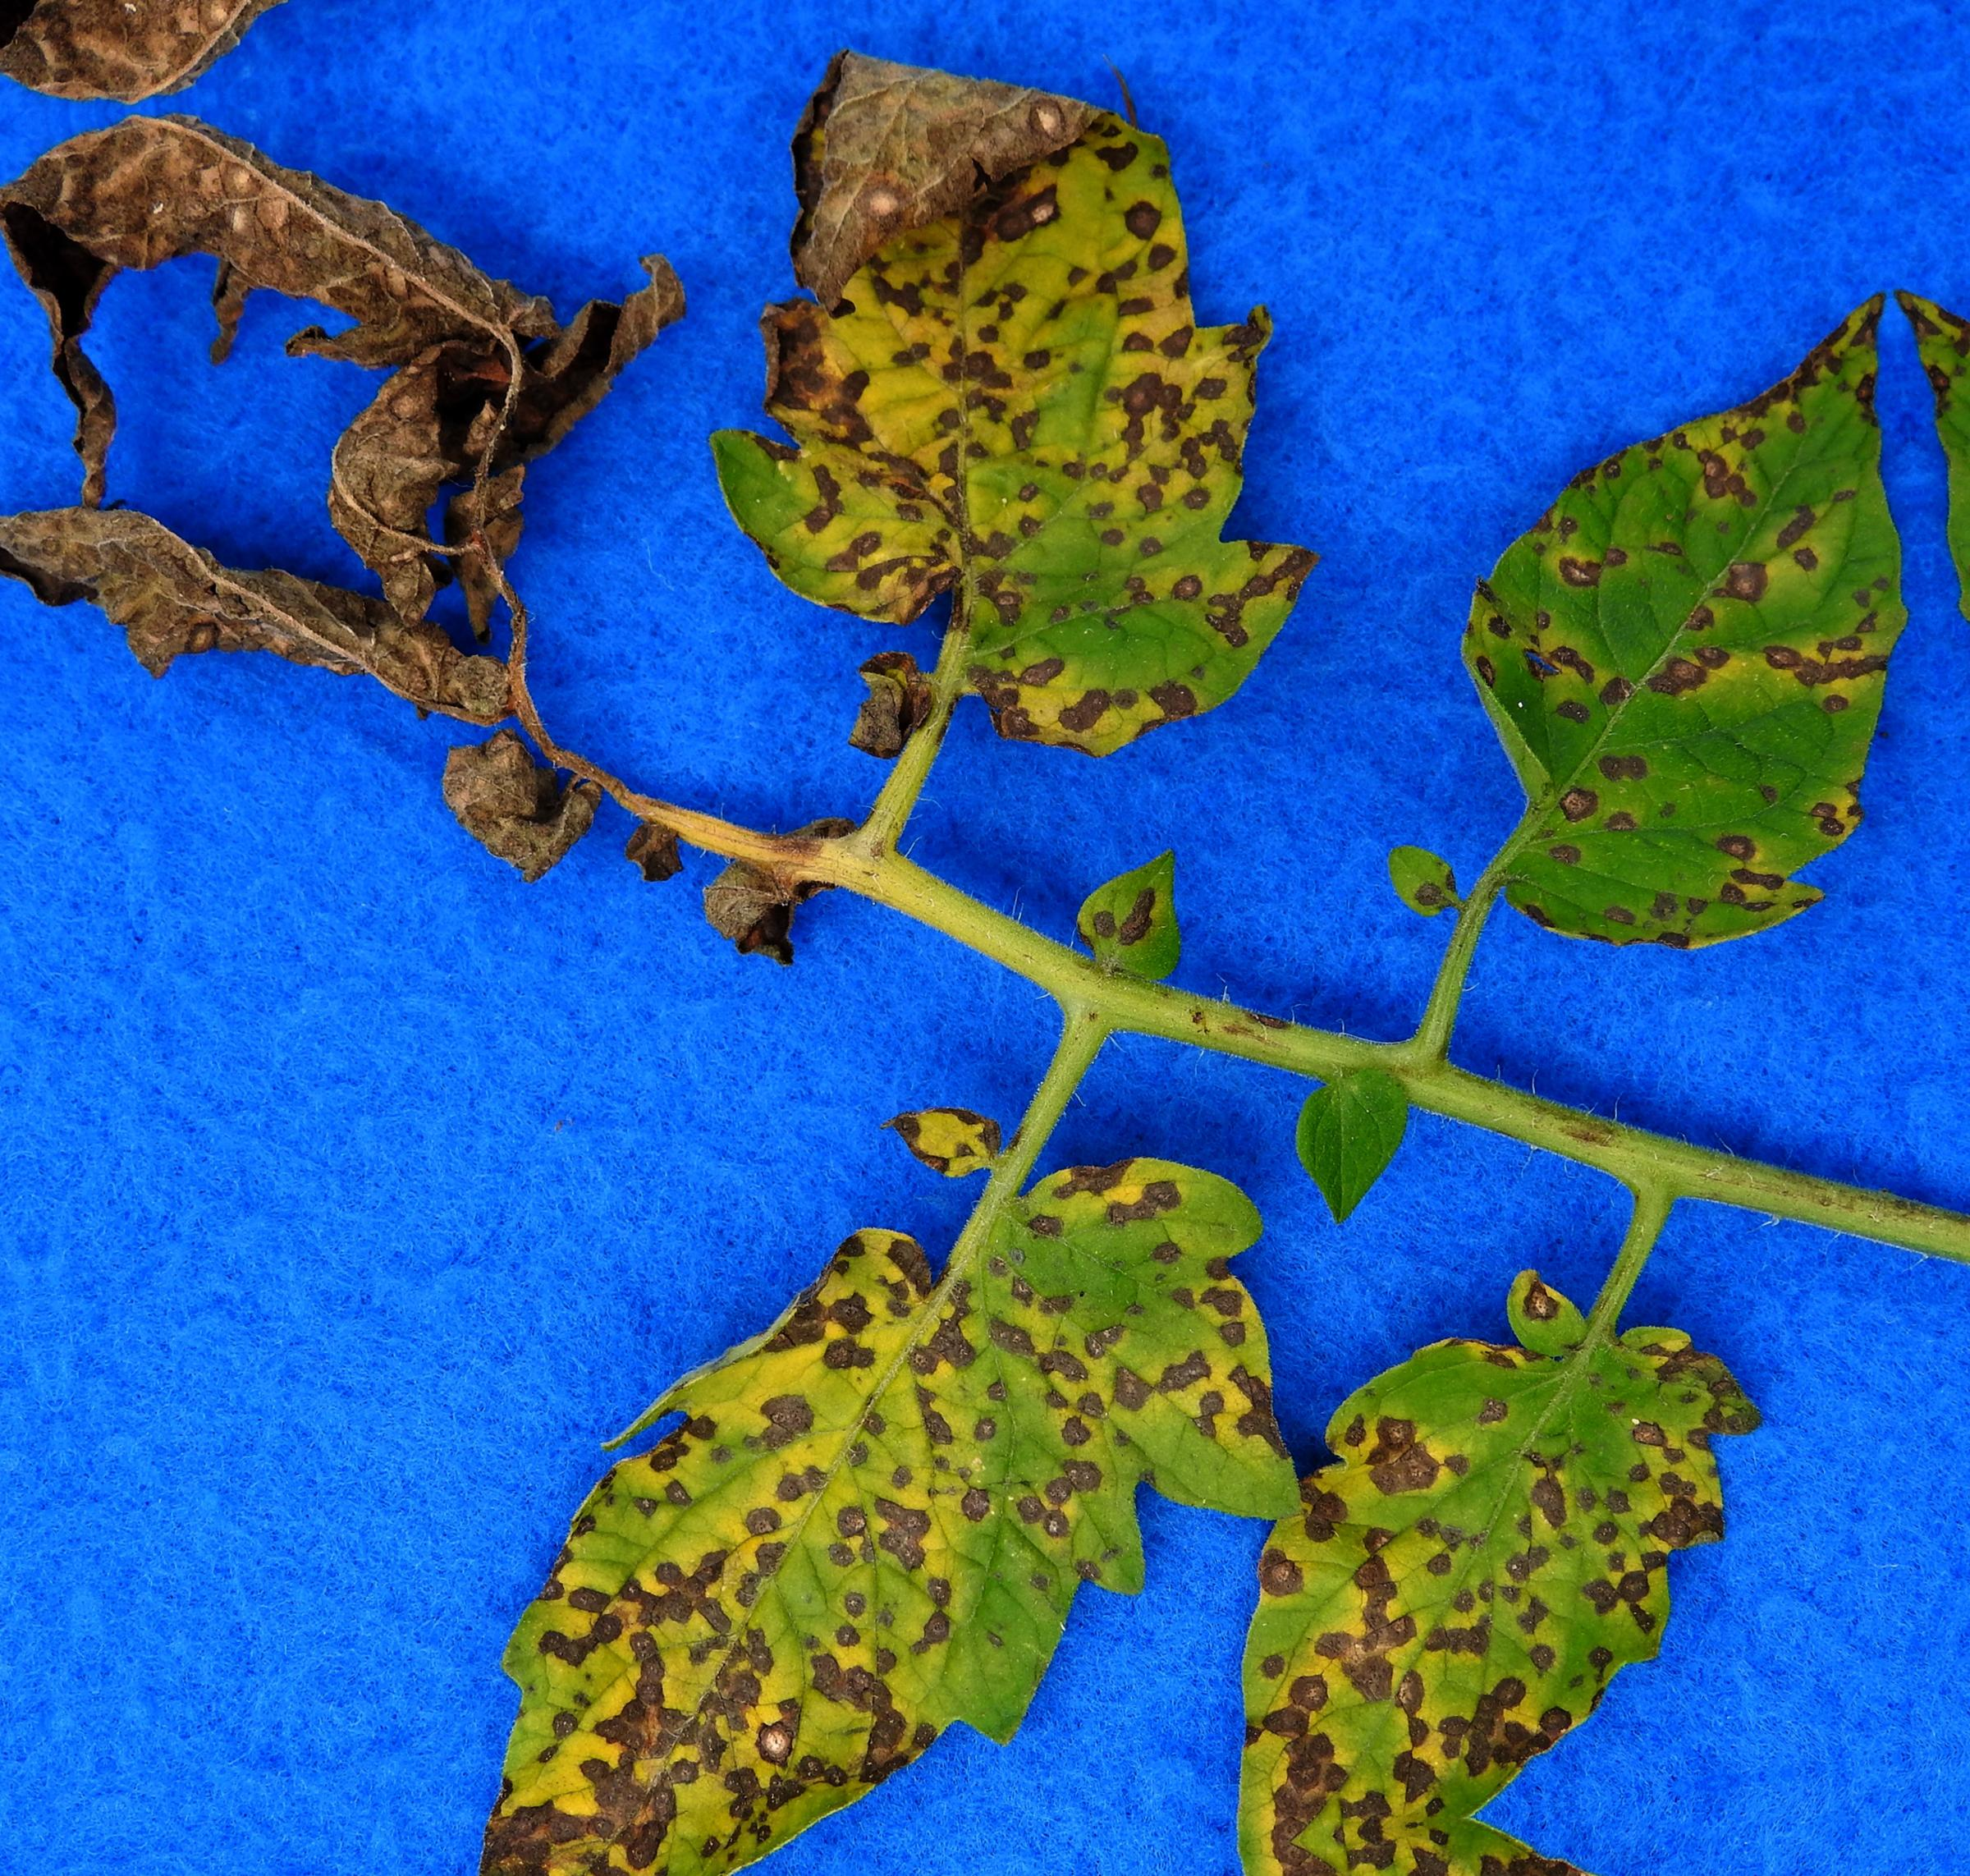Tomato Septoria leaf spot: (285, 1093, 1348, 1876), (605, 0, 1336, 805), (1381, 264, 1970, 1040), (1162, 1242, 1802, 1842)
